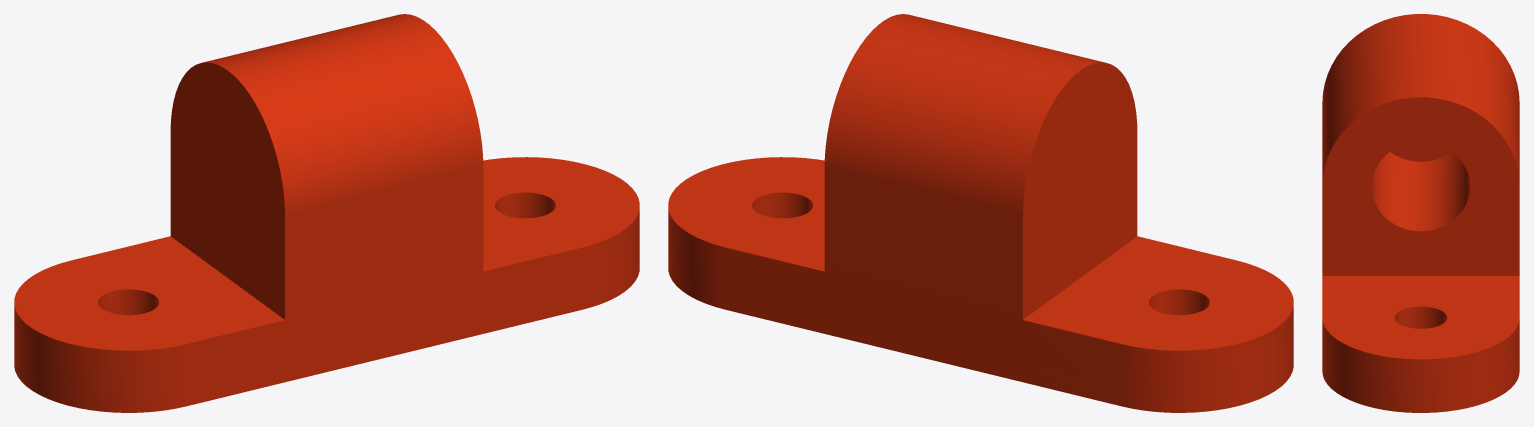
The model's file is peza.glb.
3 renders of one model, left to right at view 1: azimuth 30°, elevation 25°; view 2: azimuth 150°, elevation 25°; view 3: azimuth 270°, elevation 25°, orthographic. The views are drawn at different scales.
Visible parts, largest first — view 1: Object_2; view 2: Object_2; view 3: Object_2.
Boxes of the visible parts, x1,y1,x2,y2 form: Object_2: (14, 14, 639, 412); Object_2: (668, 14, 1293, 412); Object_2: (1322, 14, 1519, 412).
Bounding box in the file's own units: 0.09 × 0.039 × 0.03.
